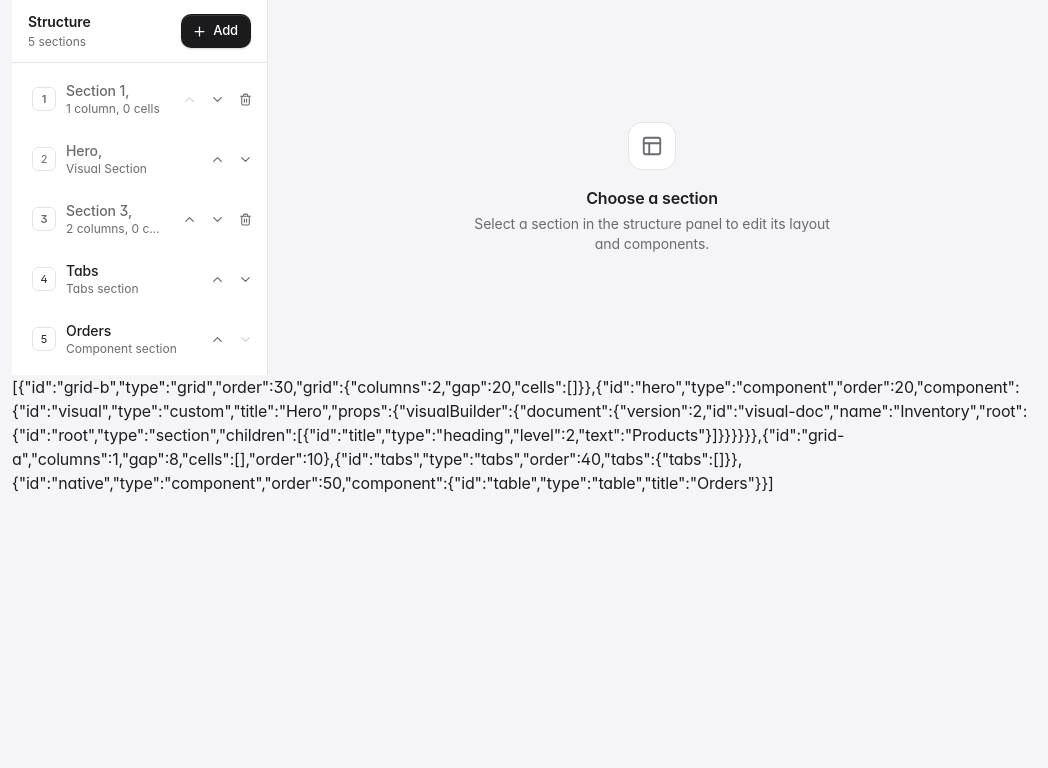
Test: reorders page sections, keeps the active grid selected, and applies later edits to that same grid
Expected: the text "5 sections" is shown, [28,34,91,50]
Expected: the button named "Move section 1 up" is disabled, [175,85,203,113]
Click the button "1 Section 1, 1 column, 0 cells". click: (98, 99)
box: [20,71,175,127]
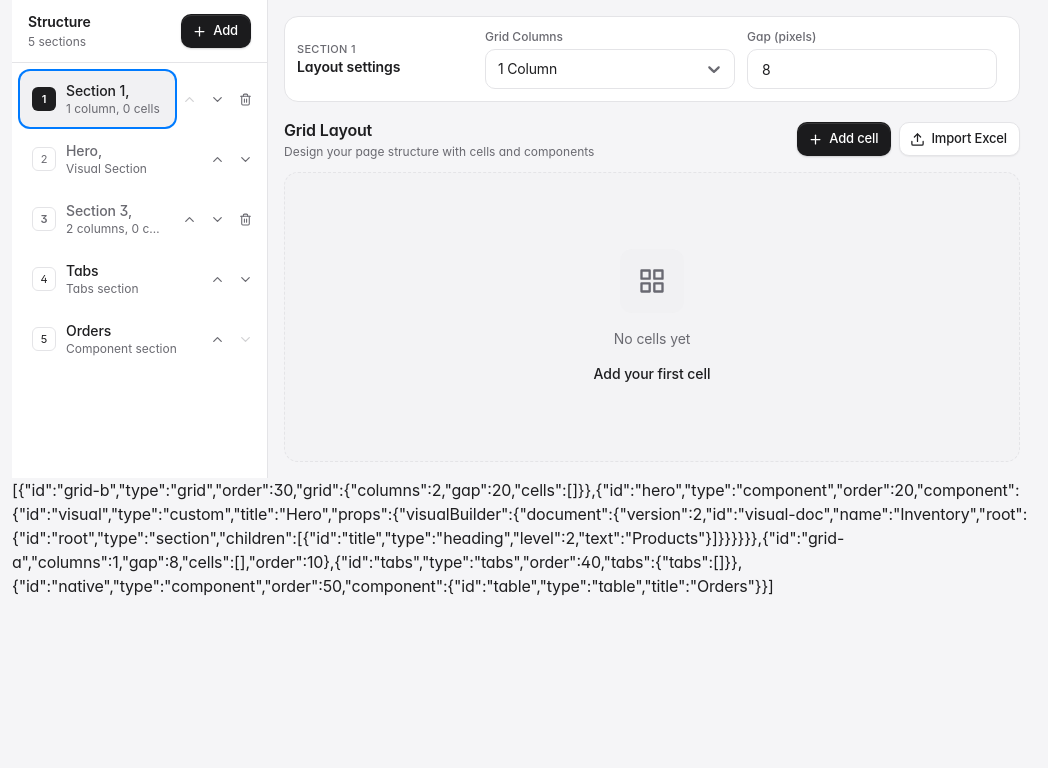
Click the button named "Move section 1 down". click: (217, 99)
box: [203,85,231,113]
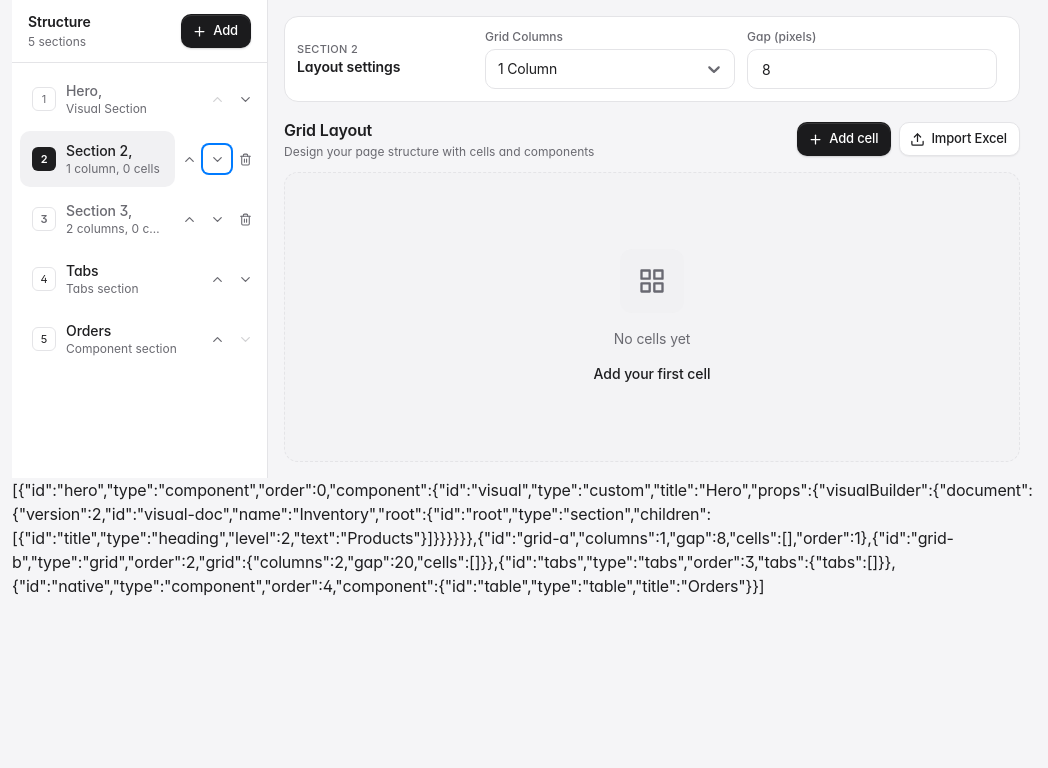
Click the button named "Move section 2 down". click: (217, 159)
box: [203,145,231,173]
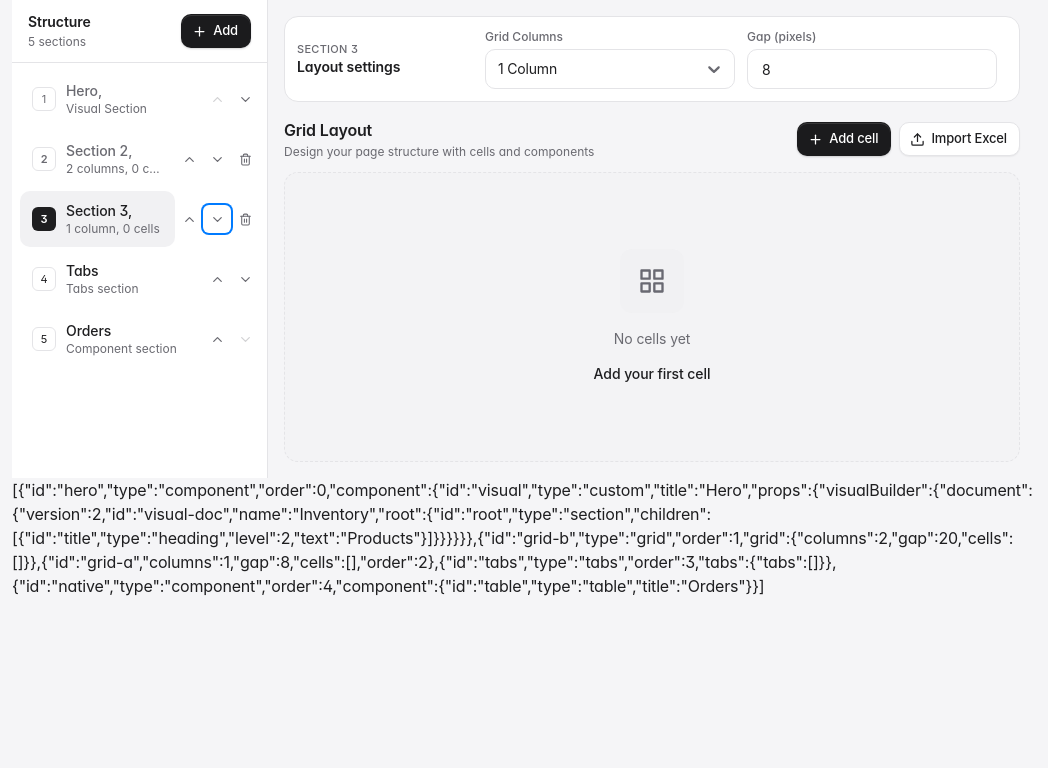
Result: the number field labelled "Gap (pixels)" holds "8"
Result: the element with test id "section-layout-toolbar" shows "Section 3" at [284,16,1020,102]
Replace the text in the number field labelled "Gap (pixels)" with "32". click: (872, 69)
box: [747,49,997,89]
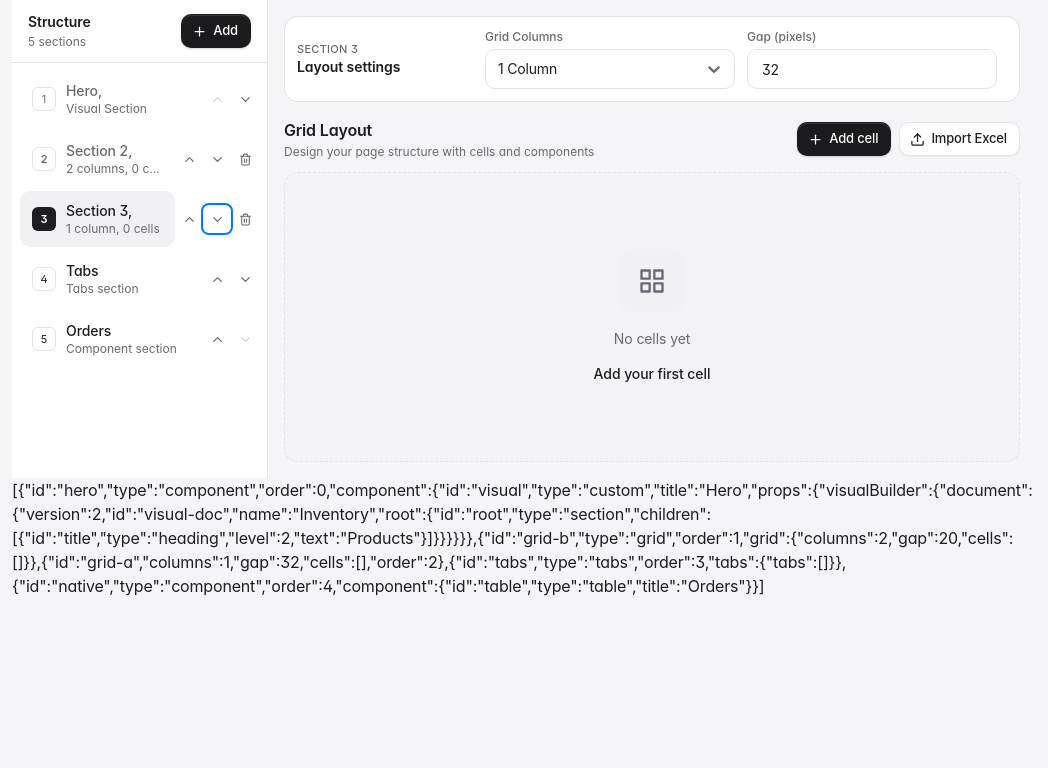
Click the button "1 Hero, visual section". click: (112, 99)
box: [20,71,203,127]
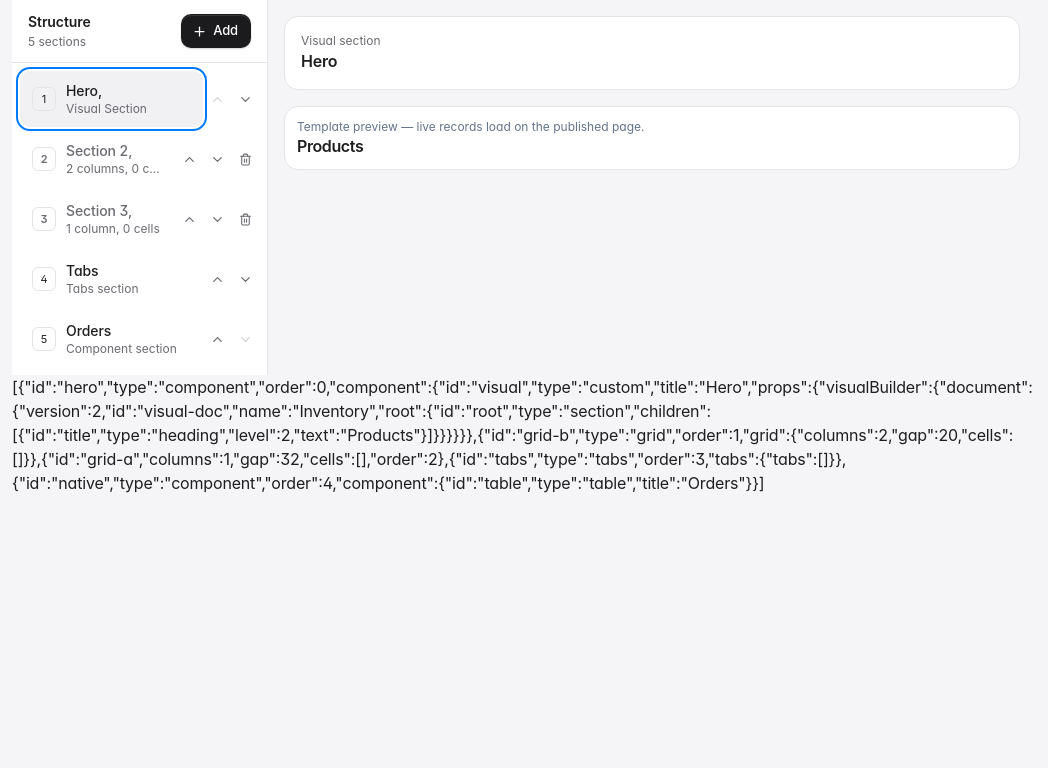
Click the button named "Move section 1 down". click: (245, 99)
box: [231,85,259,113]
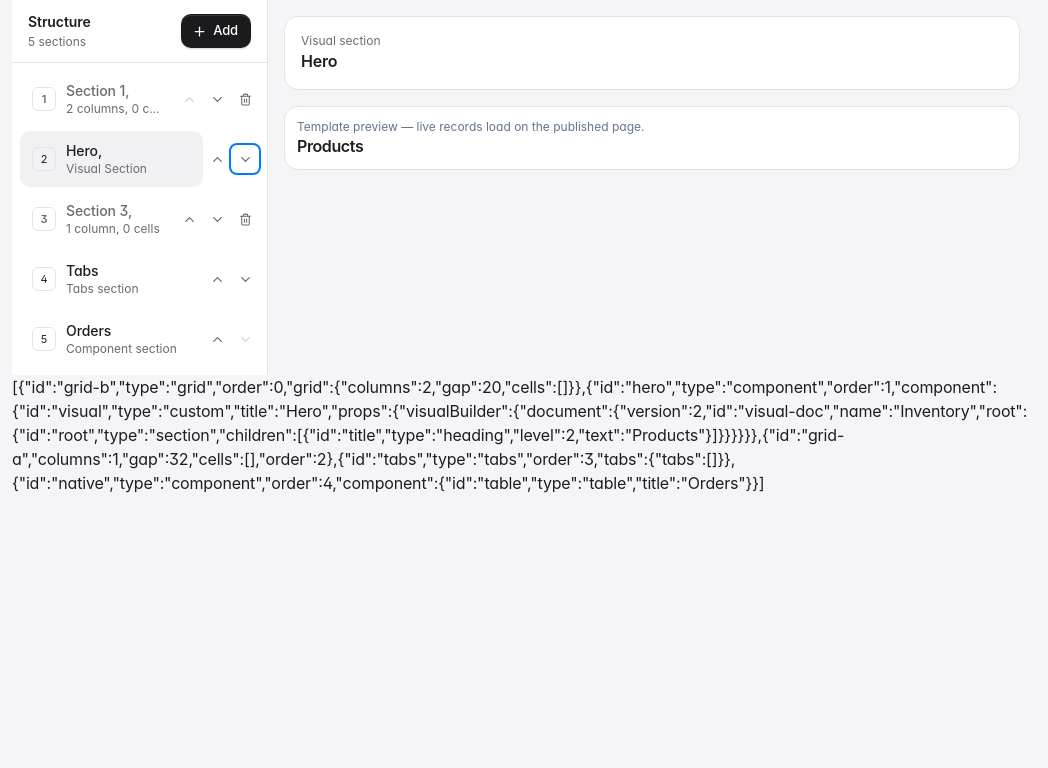
Result: the button "2 Hero, visual section" is marked as current at [20,131,203,187]
